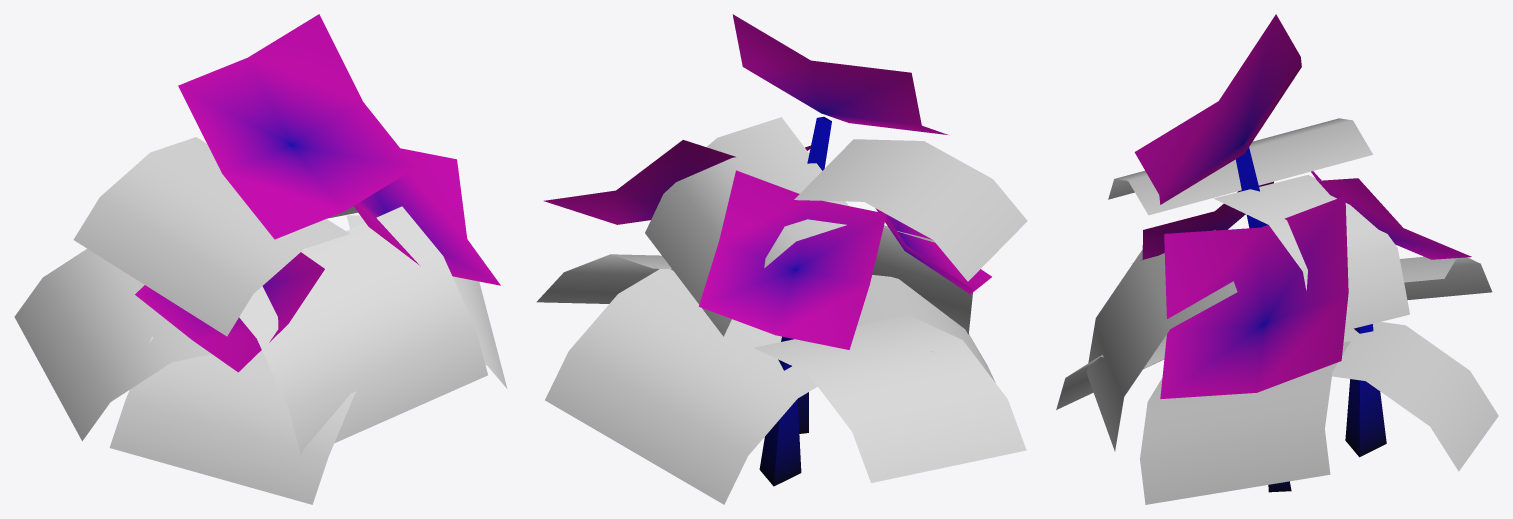
The model's file is Flower_02.fbx.
3 views of the same model, side by side, from view 1: azimuth 30°, elevation 25°; view 2: azimuth 150°, elevation 25°; view 3: azimuth 270°, elevation 25° (orthographic). The views are drawn at different scales.
Visible parts, largest first — view 1: Flower_02; view 2: Flower_02; view 3: Flower_02.
Part boxes in pixels (<box>): Flower_02: <box>14,14,507,504</box>; Flower_02: <box>536,14,1027,504</box>; Flower_02: <box>1056,14,1498,504</box>.
Size of the model in its own units: 0.3994 by 0.351 by 0.3373.
